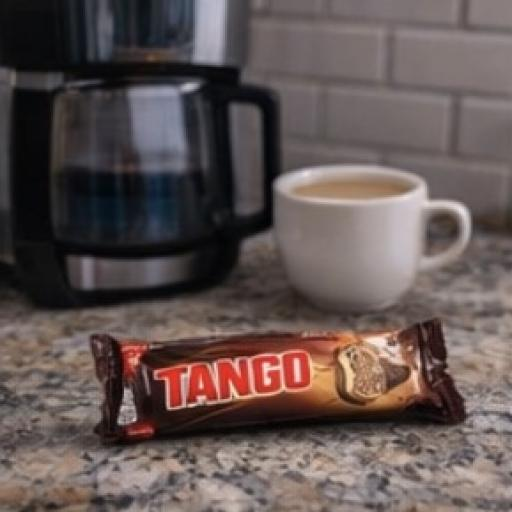tango: (73, 282, 478, 457)
